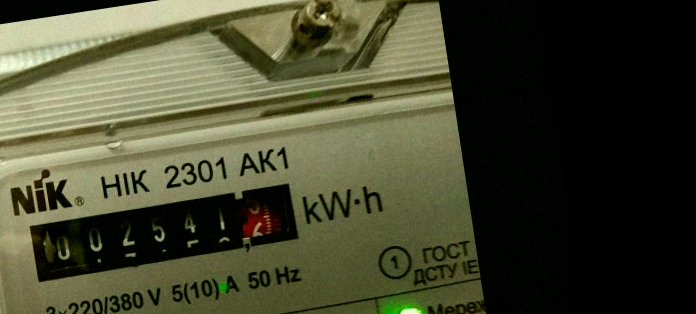0: (82, 219, 106, 254), (52, 230, 73, 261)
1: (208, 197, 229, 232)
2: (112, 213, 138, 250)
4: (178, 203, 199, 236)
5: (146, 210, 167, 245)
6: (246, 216, 265, 239)
screen: (11, 164, 321, 298)
